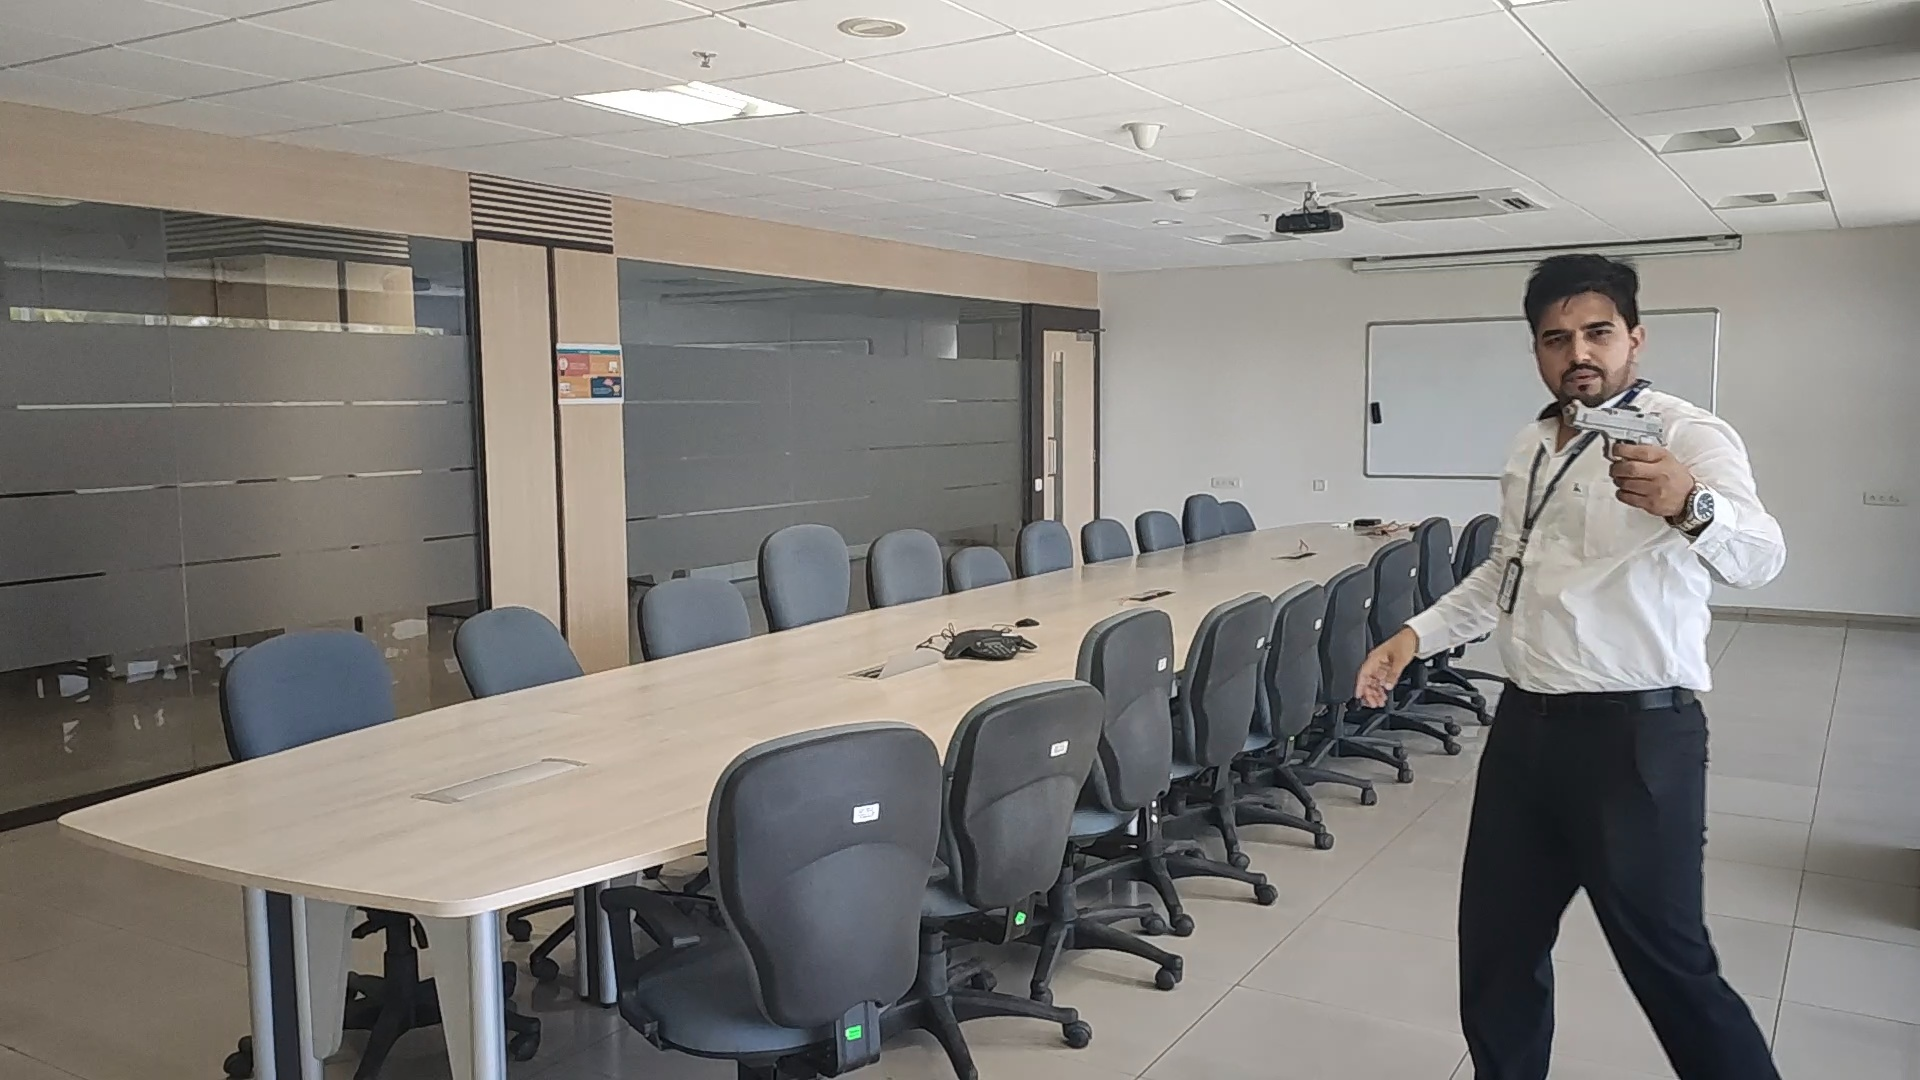gun: (1560, 398, 1669, 444)
